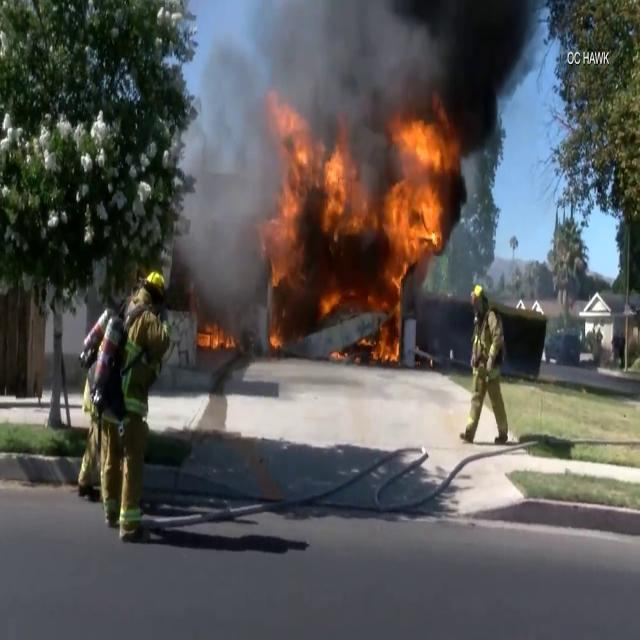Fire: (263, 74, 476, 340)
Smoke: (222, 0, 548, 160)
